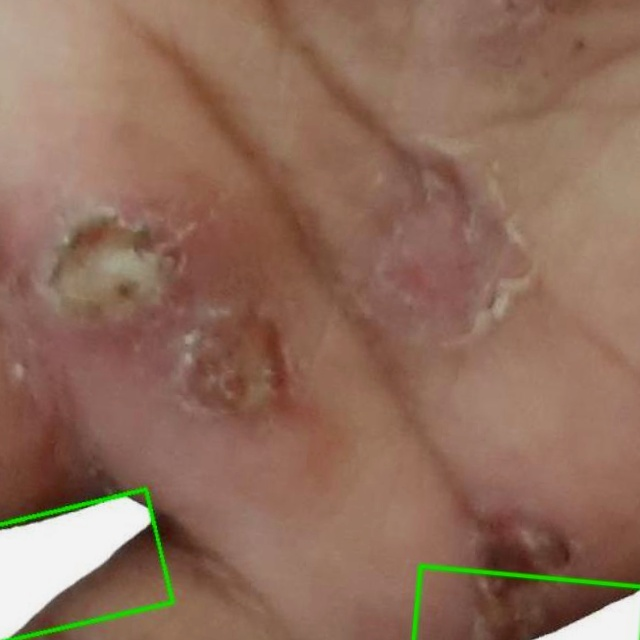Eczema: (0, 489, 178, 639)
